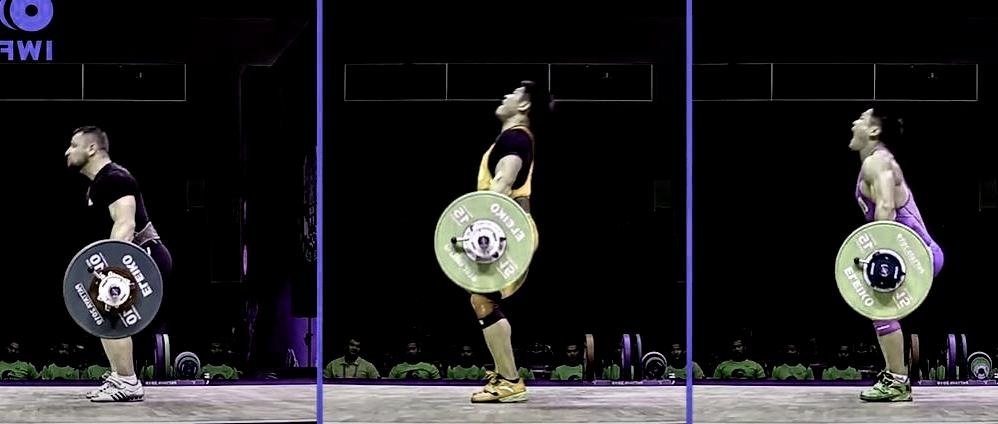Barbell: (464, 221, 499, 259), (866, 253, 901, 288), (95, 280, 126, 308)
